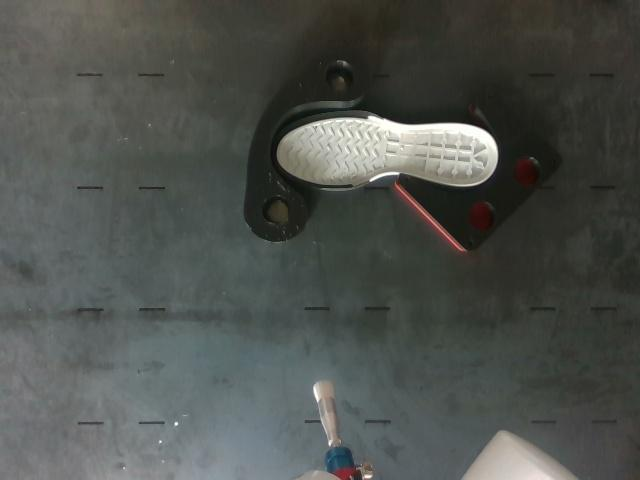shoes: (273, 112, 498, 187)
